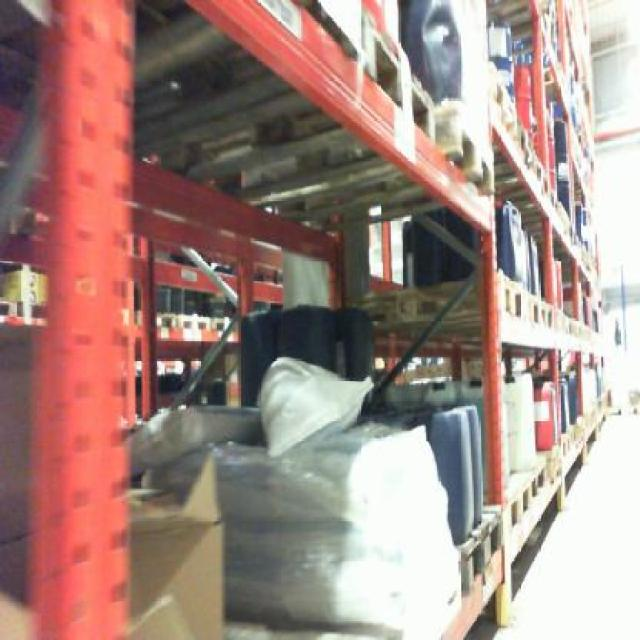pallet: (335, 269, 593, 352), (423, 86, 512, 192), (452, 530, 515, 593)
